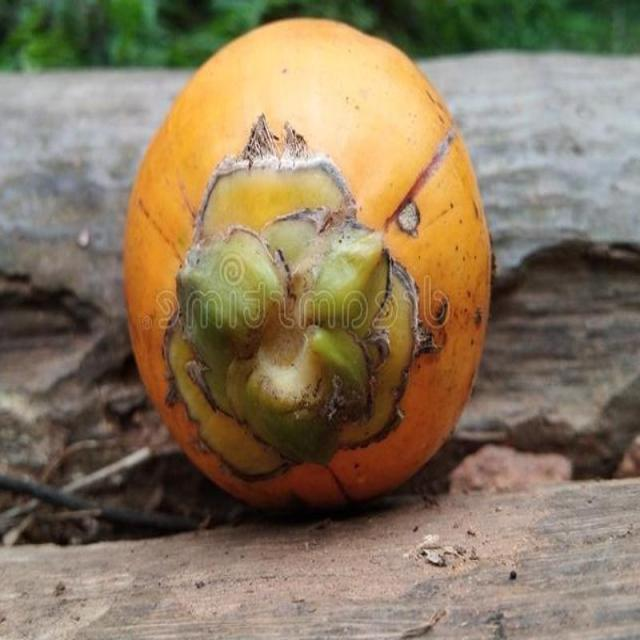good: (122, 17, 494, 516)
